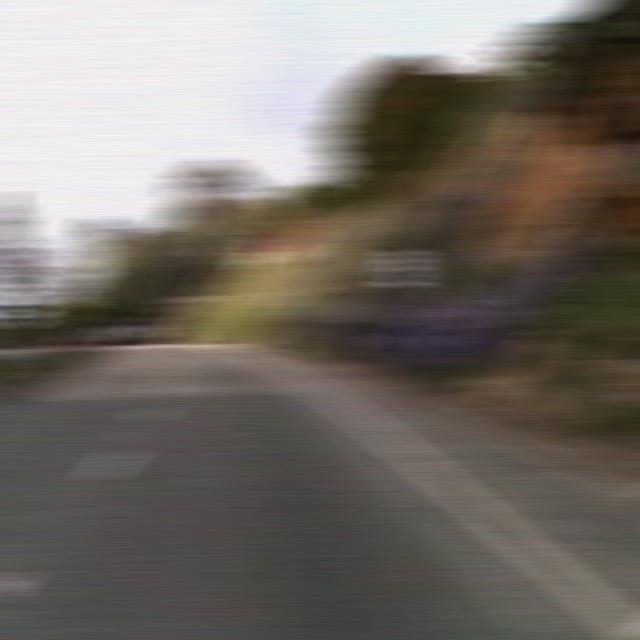speedLimit40: (381, 245, 423, 288)
